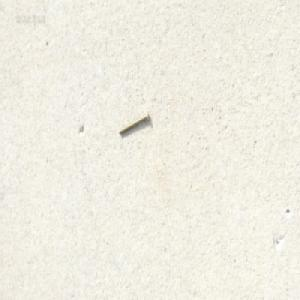Bolt: (118, 110, 149, 135)
